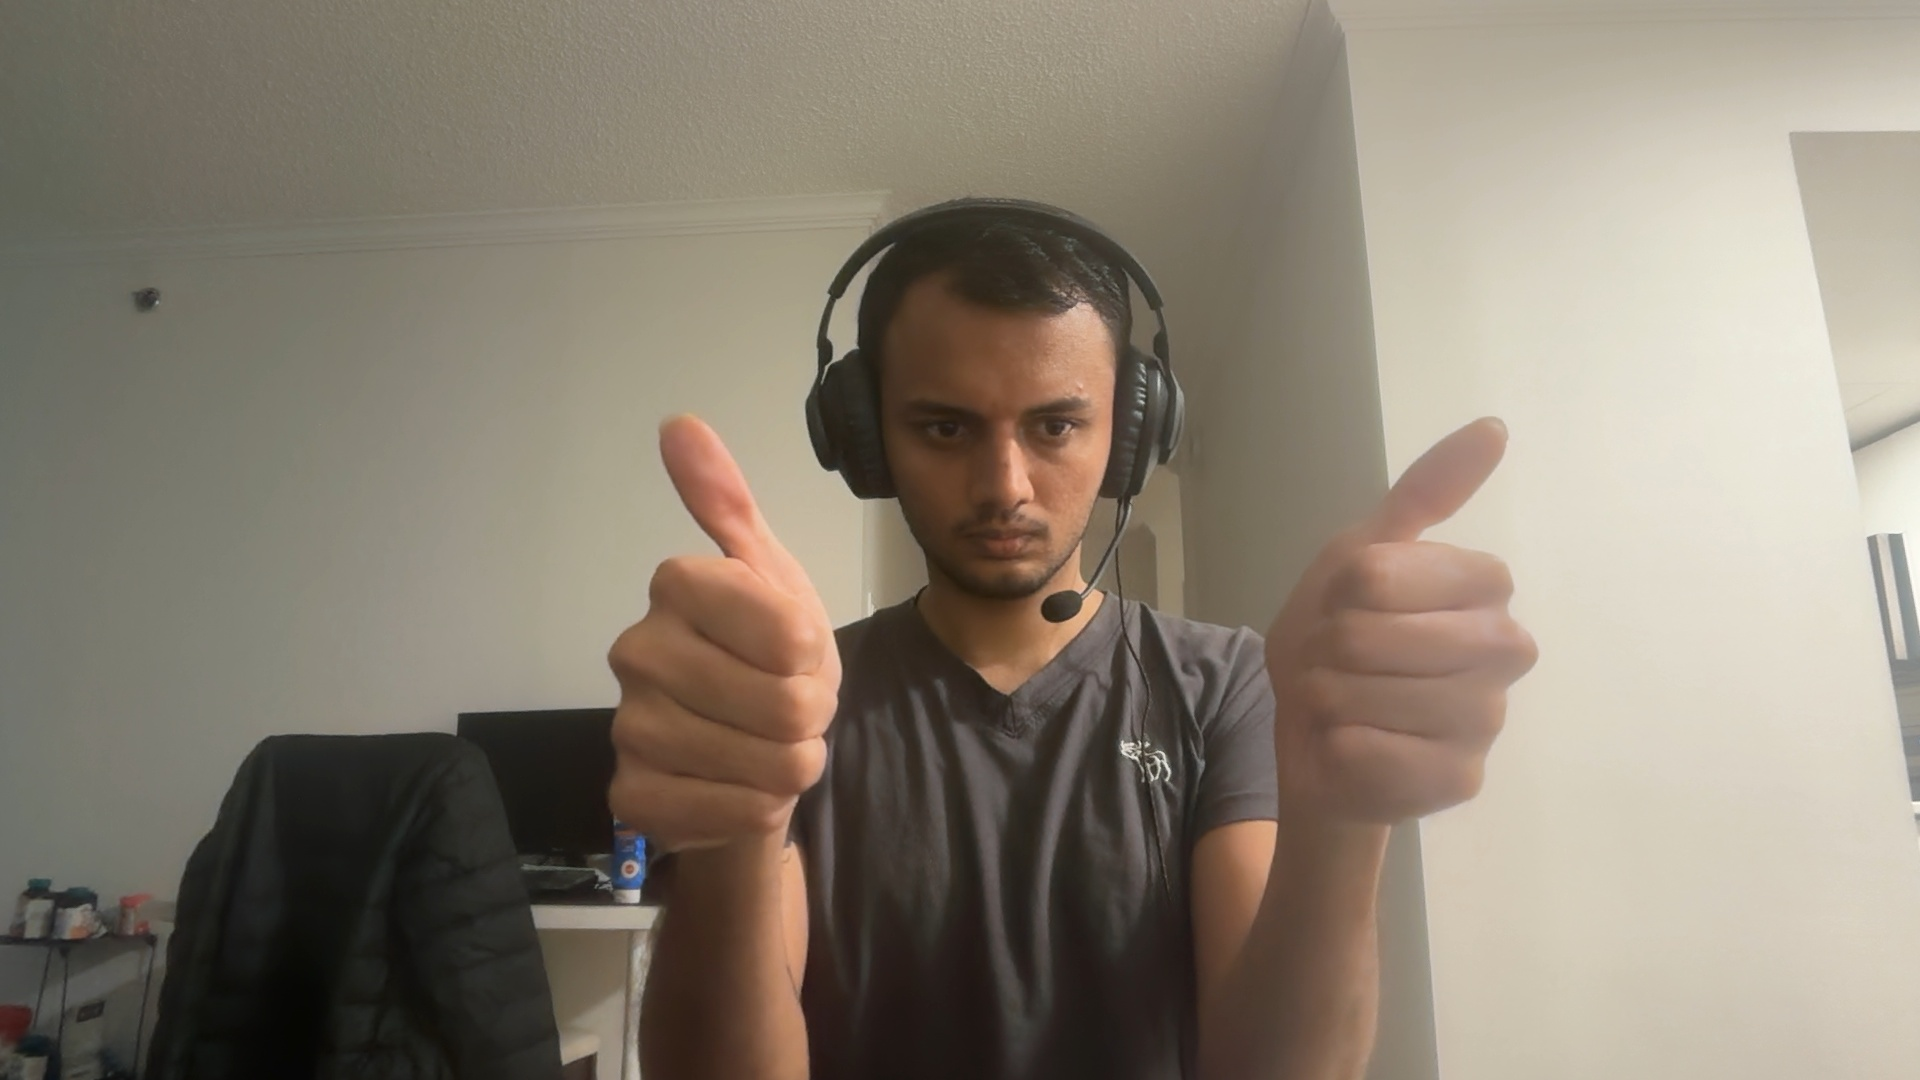thumbsup: (605, 414, 840, 855), (1305, 414, 1536, 820)
